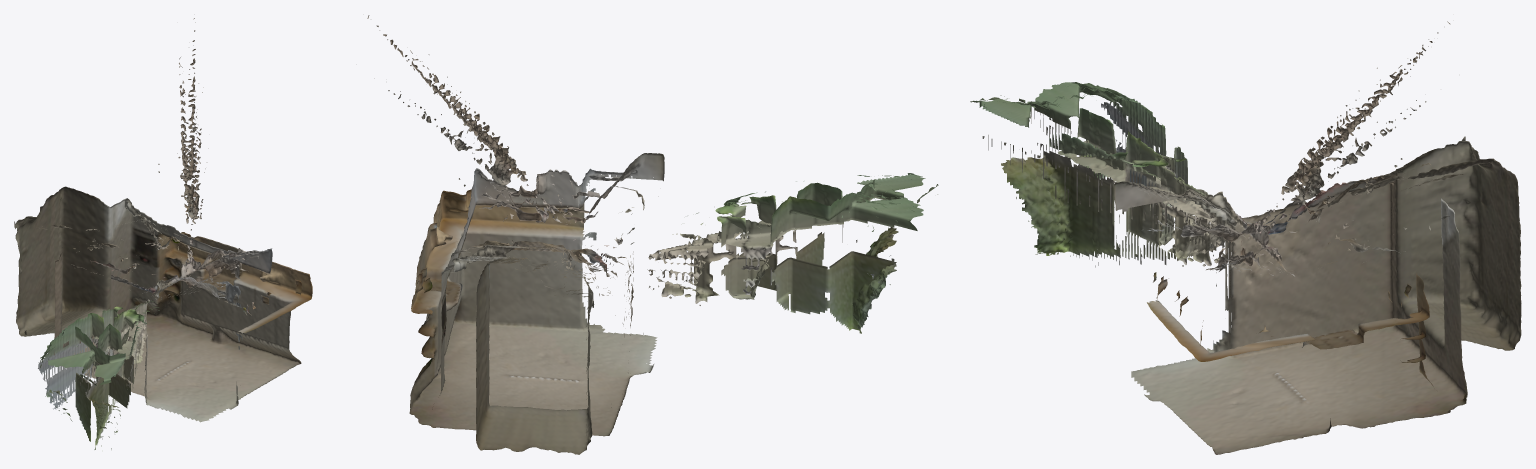
File: collider.glb
The picture shows the model from 3 angles, left to right: view 1: azimuth 30°, elevation 25°; view 2: azimuth 150°, elevation 25°; view 3: azimuth 270°, elevation 25°; orthographic projection. The views are drawn at different scales.
Visible parts, largest first — view 1: world; view 2: world; view 3: world.
Part boxes in pixels (x1=…): world: x1=14, y1=18, x2=312, y2=449; world: x1=367, y1=15, x2=938, y2=454; world: x1=970, y1=21, x2=1521, y2=454.
Bounding box in the file's own units: 8.6 × 7.84 × 9.18.
